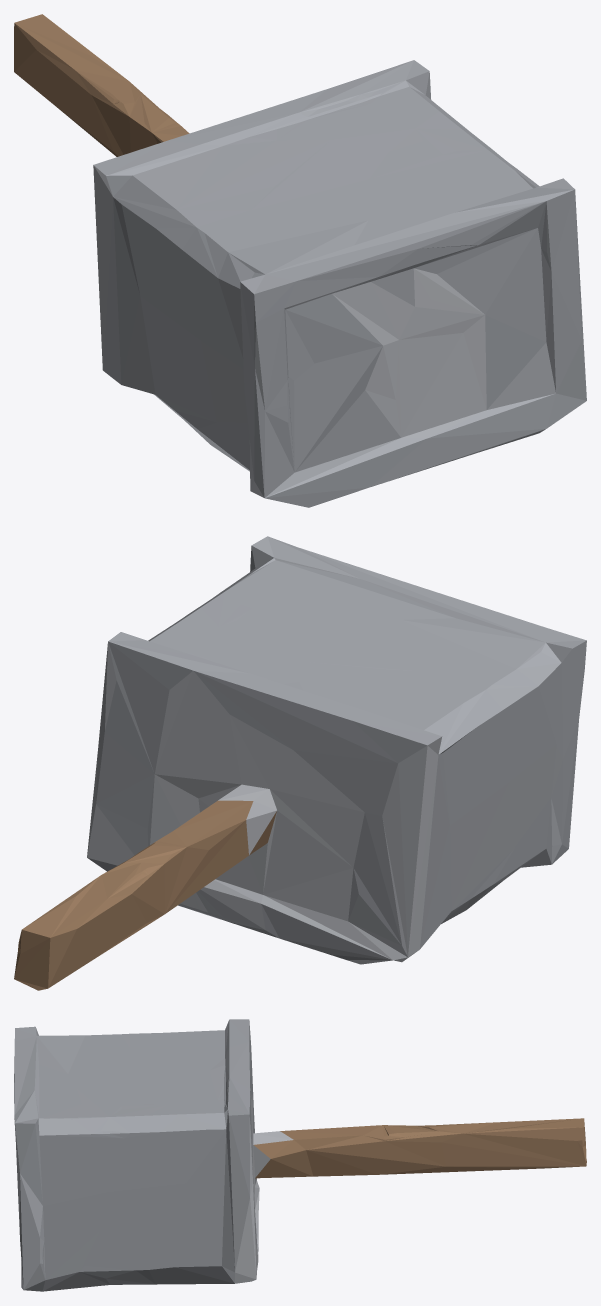
Rendered from hammer.glb.
3 renders of one model, top to bottom at view 1: azimuth 30°, elevation 25°; view 2: azimuth 150°, elevation 25°; view 3: azimuth 270°, elevation 25°, orthographic. The views are drawn at different scales.
Visible parts, largest first — view 1: hammer; view 2: hammer; view 3: hammer.
Part boxes in pixels (bbox=[...]): hammer: bbox=[14, 14, 586, 507]; hammer: bbox=[14, 536, 586, 990]; hammer: bbox=[14, 1019, 586, 1291].
Bounding box in the file's own units: 0.5054 × 0.3856 × 1.01.
